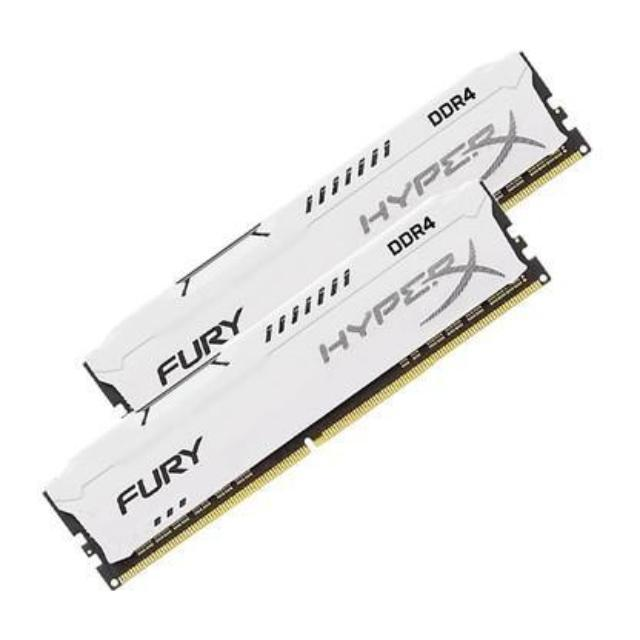RAM: (35, 45, 600, 597)
